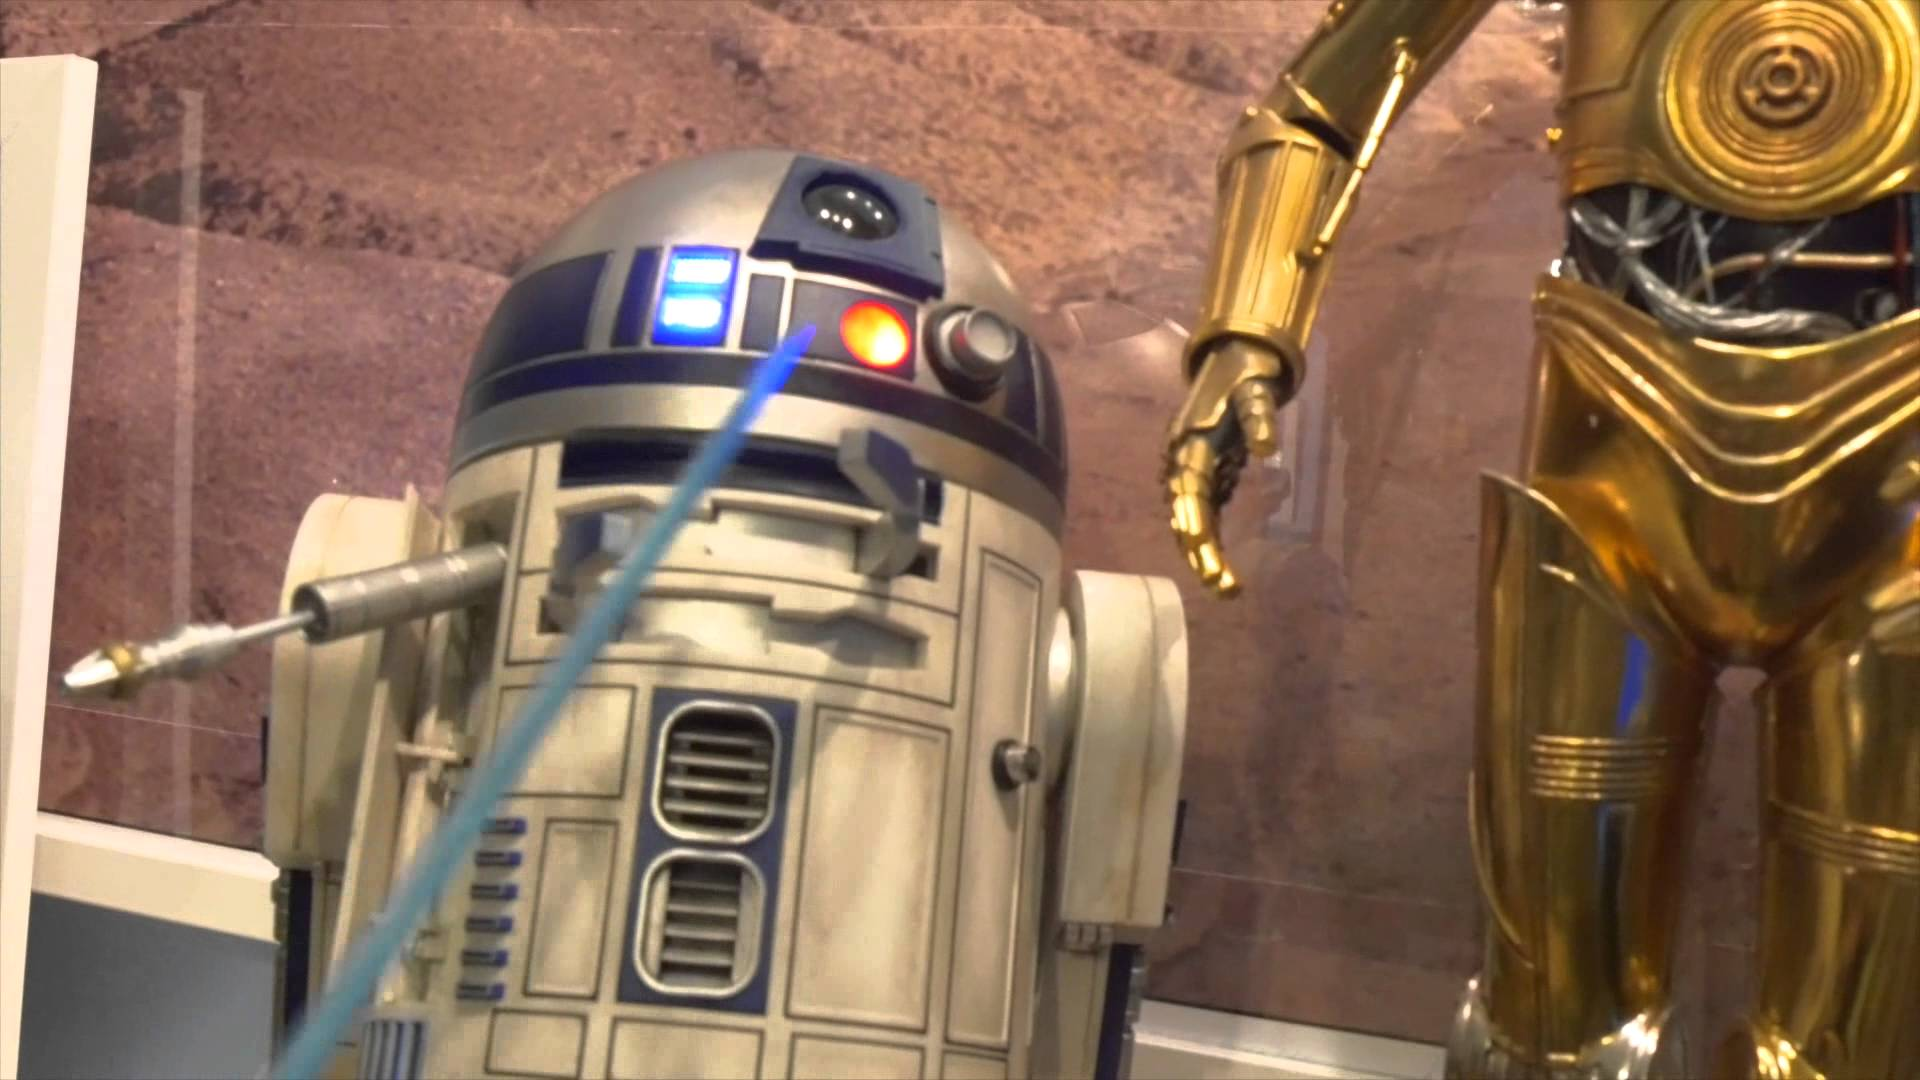r2d2: (261, 150, 1191, 1080)
